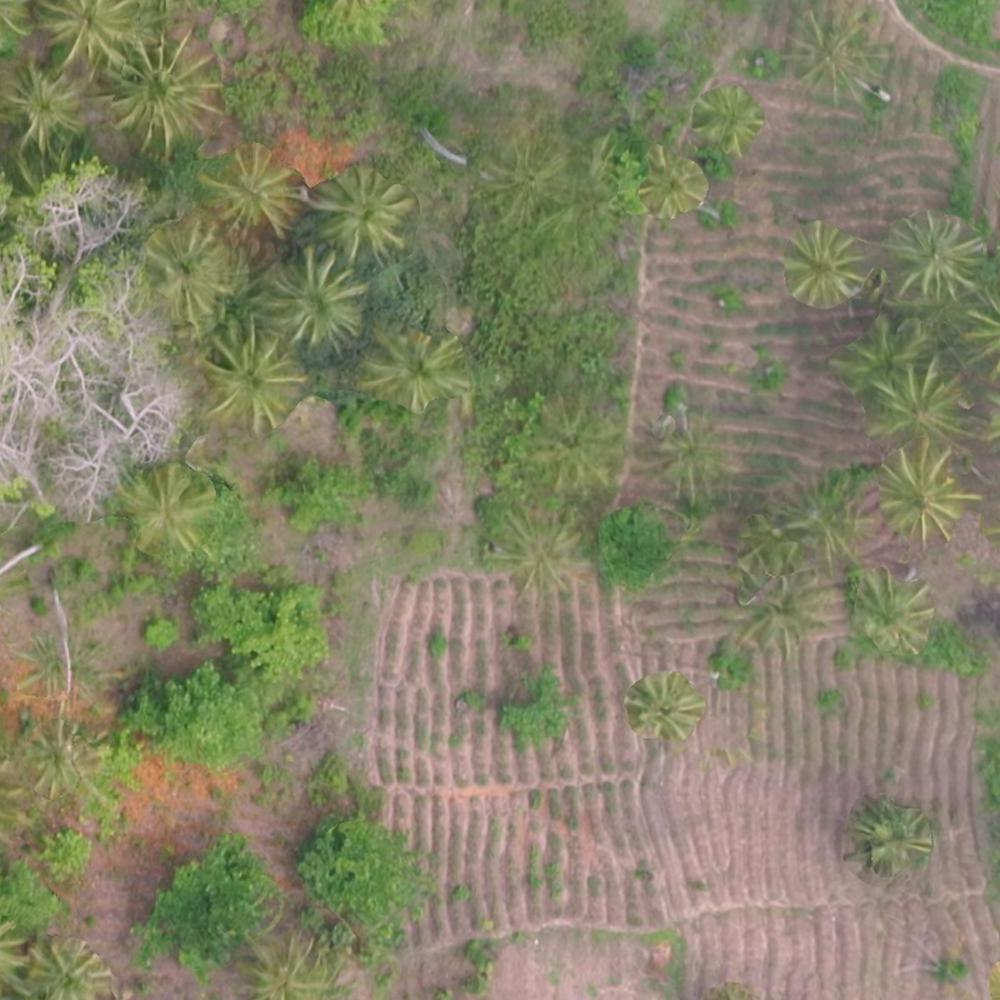Palm: (102, 32, 215, 147), (254, 254, 367, 348), (200, 324, 296, 428), (869, 446, 969, 544), (359, 322, 462, 413), (308, 164, 405, 260), (196, 140, 291, 236), (121, 457, 216, 550), (137, 223, 229, 319), (886, 212, 981, 304), (869, 361, 967, 447), (39, 1, 142, 74), (2, 66, 82, 147), (786, 223, 860, 308), (854, 573, 932, 649), (854, 802, 925, 876), (638, 155, 709, 222), (627, 674, 700, 739), (694, 88, 759, 150)
